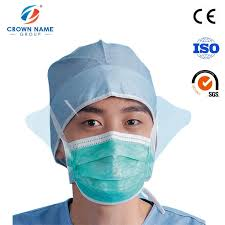mask: (69, 94, 155, 206)
